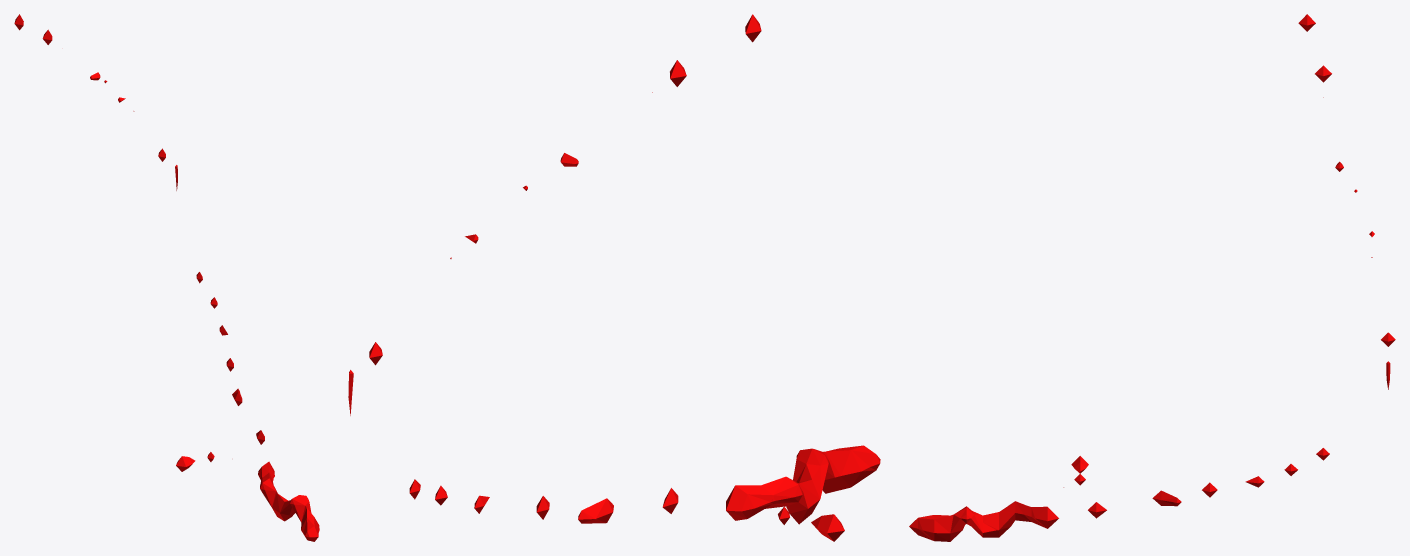
File: tar_coarse.dae
3 views of the same model, side by side, from view 1: azimuth 30°, elevation 25°; view 2: azimuth 150°, elevation 25°; view 3: azimuth 270°, elevation 25° (orthographic). The views are drawn at different scales.
Parts seen in each view (by area): view 1: tar; view 2: tar; view 3: tar.
Part boxes in pixels (<box>): tar: <box>14,14,319,541</box>; tar: <box>348,14,880,541</box>; tar: <box>909,14,1395,541</box>.
Bounding box in the file's own units: 253 × 514 × 490.
